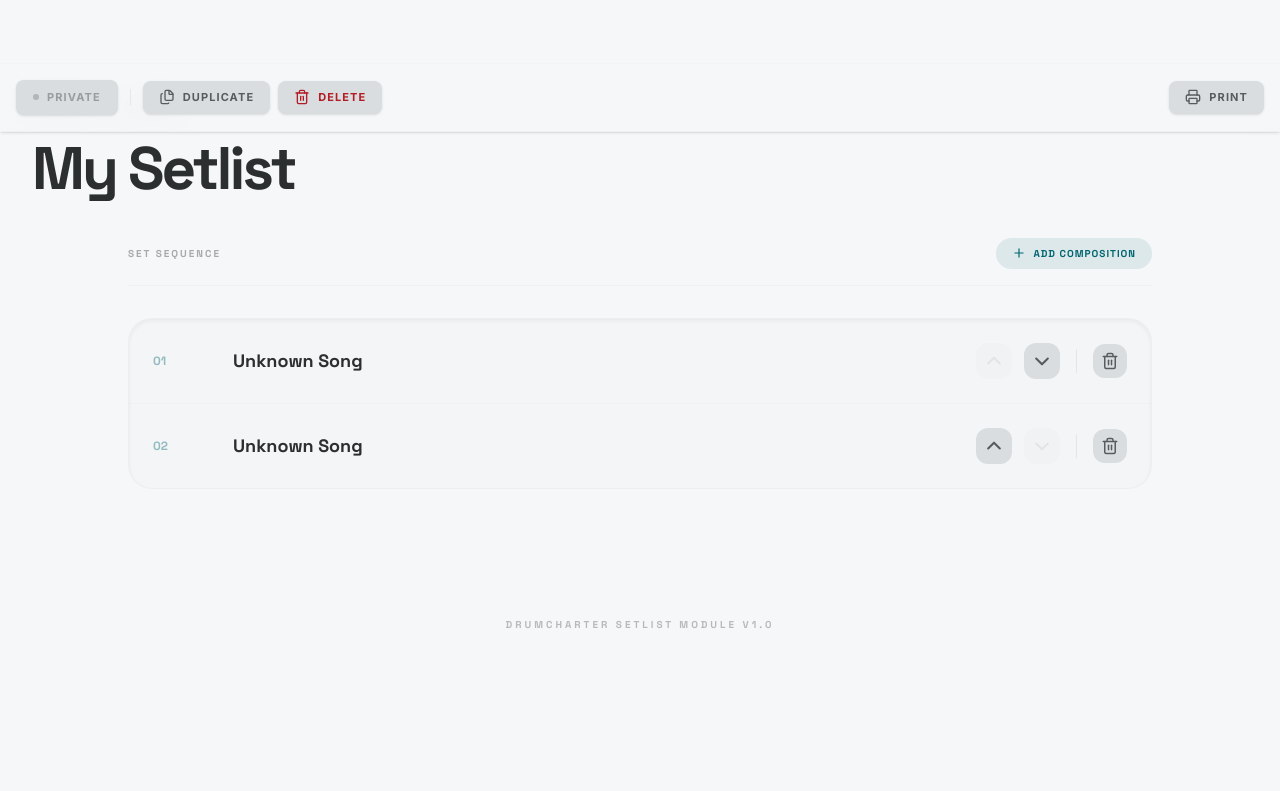
it: SetlistEditor › handles empty available songs state
The width and height of the screenshot is (1280, 791).
Click the button "Add Composition". click: click(1074, 253)
box: [996,238,1152,268]
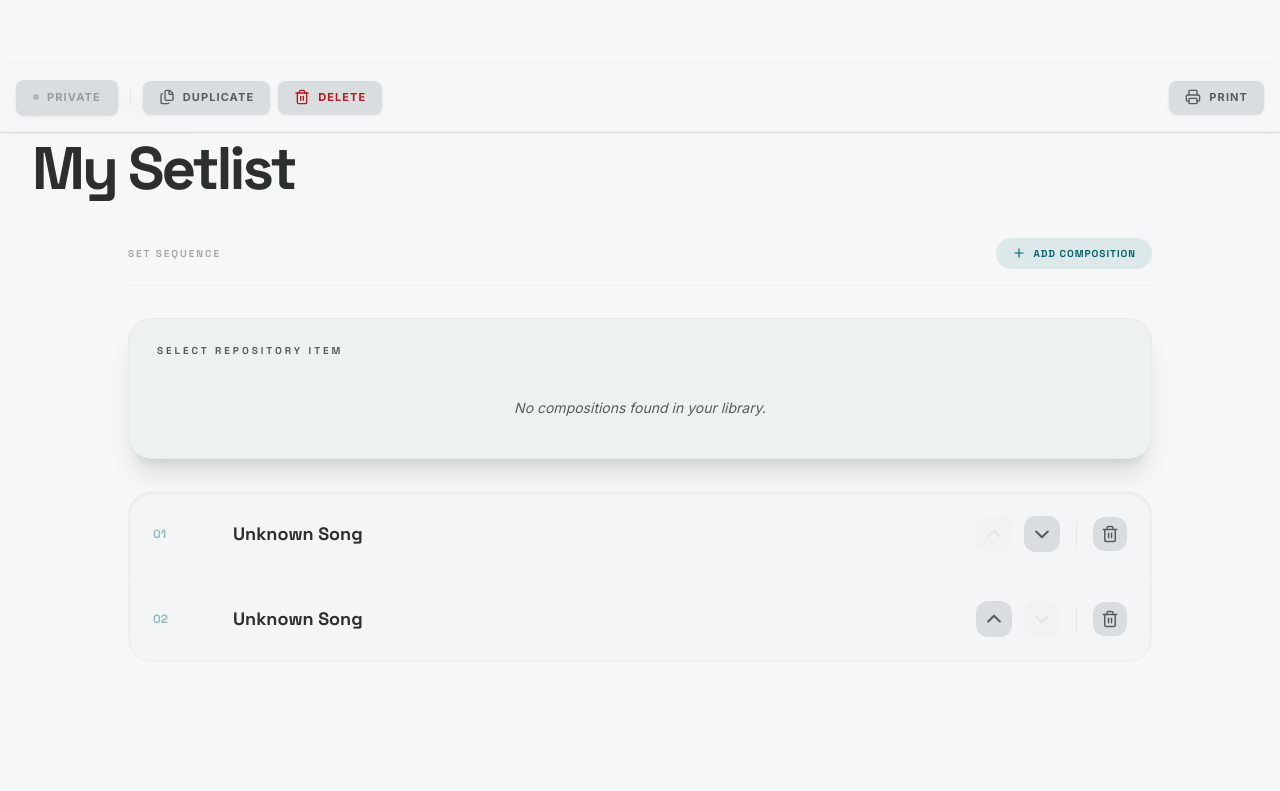
Expected: the text "No compositions found in your library." is shown, [514,398,766,416]
